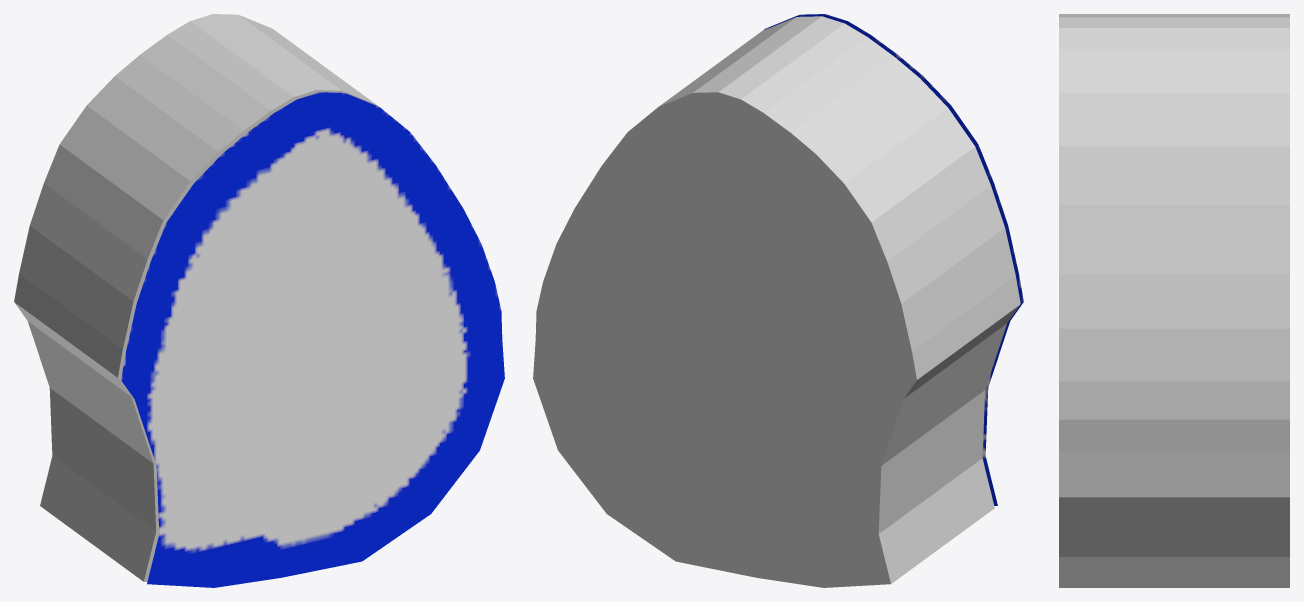
The picture shows the model from 3 angles, left to right: view 1: azimuth 30°, elevation 25°; view 2: azimuth 150°, elevation 25°; view 3: azimuth 270°, elevation 25°; orthographic projection. The views are drawn at different scales.
Parts seen in each view (by area): view 1: In_3_1, In_3_0; view 2: In_3_0, In_3_1; view 3: In_3_0.
Part boxes in pixels (<box>): In_3_1: <box>121,92,504,587</box>; In_3_0: <box>14,14,378,581</box>; In_3_0: <box>533,16,1020,587</box>; In_3_1: <box>763,14,1023,505</box>; In_3_0: <box>1059,14,1289,587</box>.
Size of the model in its own units: 1.07 by 1.27 by 0.515.
Materials: 2 (1 with a texture image).
